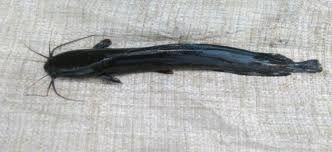Catfish: (38, 33, 325, 89)
